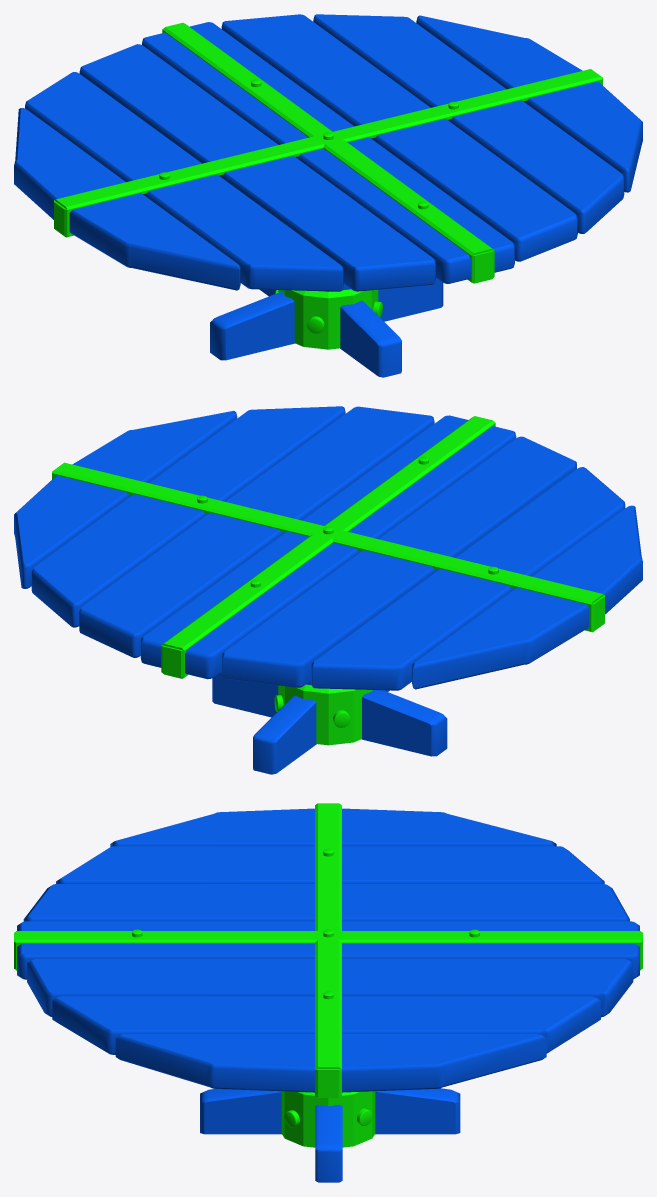
The model's file is Table_Mat.obj.
The picture shows the model from 3 angles, top to bottom: view 1: azimuth 30°, elevation 25°; view 2: azimuth 150°, elevation 25°; view 3: azimuth 270°, elevation 25°; orthographic projection.
Parts seen in each view (by area): view 1: Table Scene tableBody, Table Scene tableBottom, metalBaring3 Table Scene, Table Scene metalBaring2; view 2: Table Scene tableBody, Table Scene tableBottom, metalBaring3 Table Scene, Table Scene metalBaring2; view 3: Table Scene tableBody, Table Scene tableBottom, Table Scene metalBaring2, metalBaring3 Table Scene.
Part boxes in pixels (x1=…): Table Scene tableBody: x1=14, y1=14, x2=642, y2=291; Table Scene tableBottom: x1=210, y1=277, x2=443, y2=377; metalBaring3 Table Scene: x1=54, y1=69, x2=602, y2=237; Table Scene metalBaring2: x1=162, y1=22, x2=494, y2=283; Table Scene tableBody: x1=14, y1=406, x2=642, y2=690; Table Scene tableBottom: x1=212, y1=671, x2=447, y2=774; metalBaring3 Table Scene: x1=52, y1=462, x2=604, y2=632; Table Scene metalBaring2: x1=161, y1=416, x2=495, y2=678; Table Scene tableBody: x1=17, y1=808, x2=639, y2=1092; Table Scene tableBottom: x1=200, y1=1088, x2=460, y2=1182; Table Scene metalBaring2: x1=14, y1=929, x2=642, y2=970; metalBaring3 Table Scene: x1=315, y1=803, x2=341, y2=1097.
Bounding box in the file's own units: 14.17 × 4.89 × 14.17.
